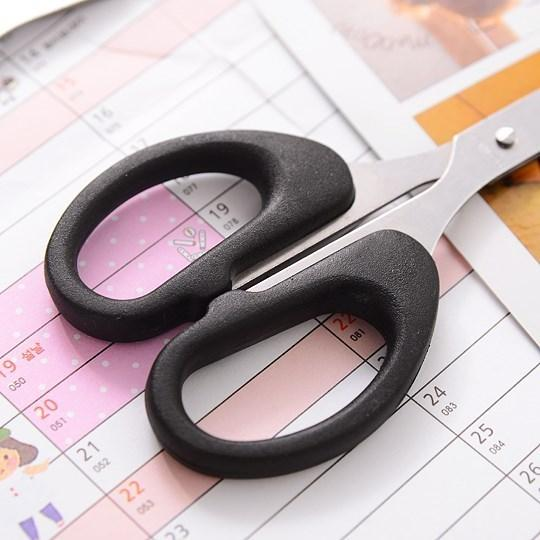scissor: (32, 83, 540, 387)
